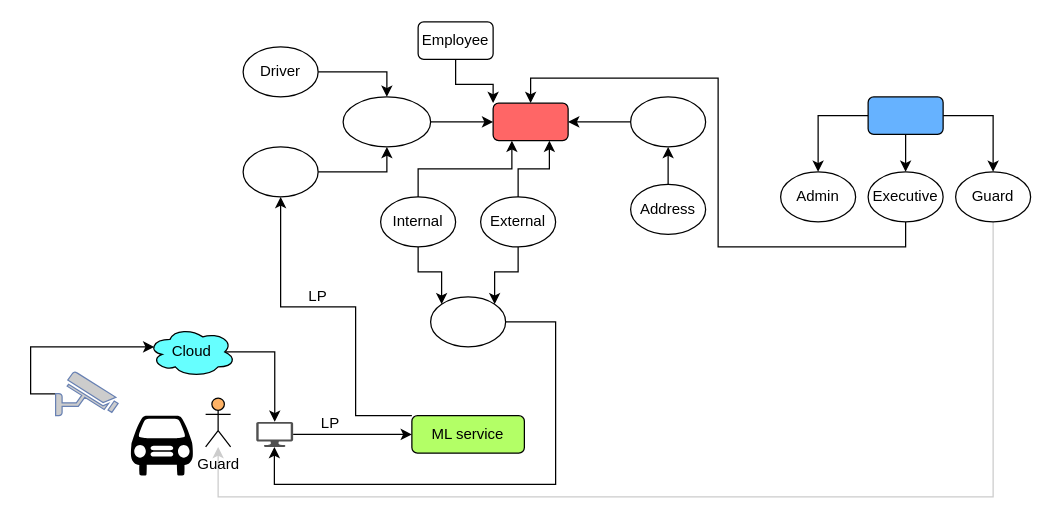
The diagram is 1053 pixels wide and 529 high, and some of its shapes have lost their labels. The shapes that lost their labels are listed below. From the top down, each one's box as (x1, y1, x2, y2) in pixels, then its label:
(342, 96, 431, 147): Assignment
(492, 102, 568, 141): Trip
(629, 96, 706, 147): Location
(867, 96, 943, 134): User
(242, 146, 318, 197): Vehicle
(429, 296, 506, 347): Gatepass
